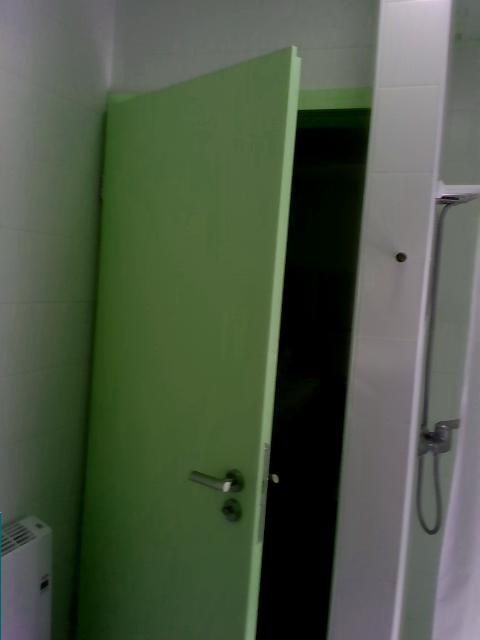semi_door: (74, 40, 373, 639)
